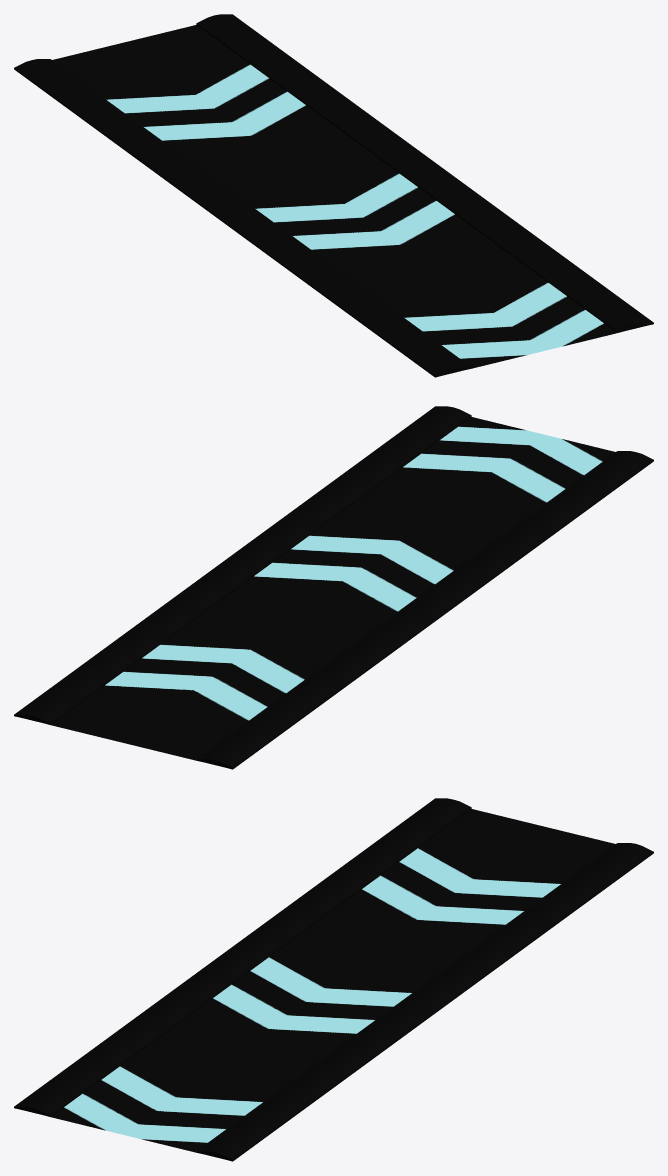
Rendered from road4.glb.
3 renders of one model, top to bottom at view 1: azimuth 30°, elevation 25°; view 2: azimuth 150°, elevation 25°; view 3: azimuth 330°, elevation 25°, orthographic.
Parts seen in each view (by area): view 1: Plane; view 2: Plane; view 3: Plane.
Boxes of the visible parts, x1=… form: Plane: x1=14, y1=14, x2=653, y2=377; Plane: x1=14, y1=406, x2=653, y2=769; Plane: x1=14, y1=798, x2=653, y2=1161.
Bounding box in the file's own units: 1.5 × 0.0334 × 5.
1 material, 1 textured.
